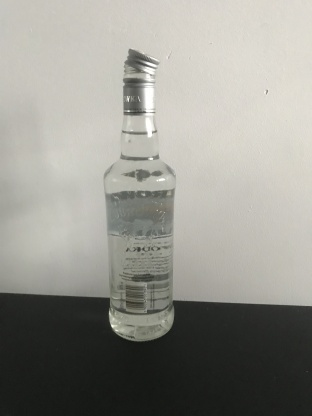nakretka: (121, 46, 160, 116)
